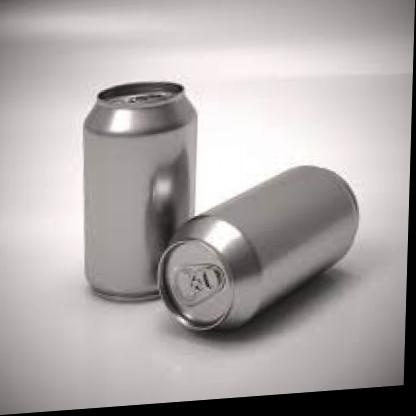trash: (158, 166, 358, 330), (84, 82, 196, 300)
